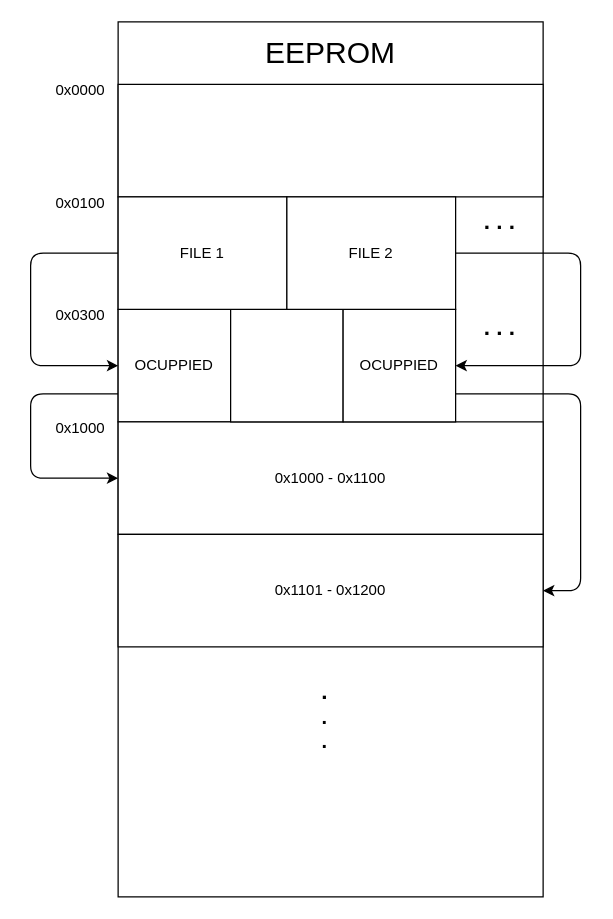
Image size: 613x919. Some labels were removed from this diagram. Each missing label, with the centre of its shape:
FREE: pixel 286 365
Superblock: pixel 330 140
